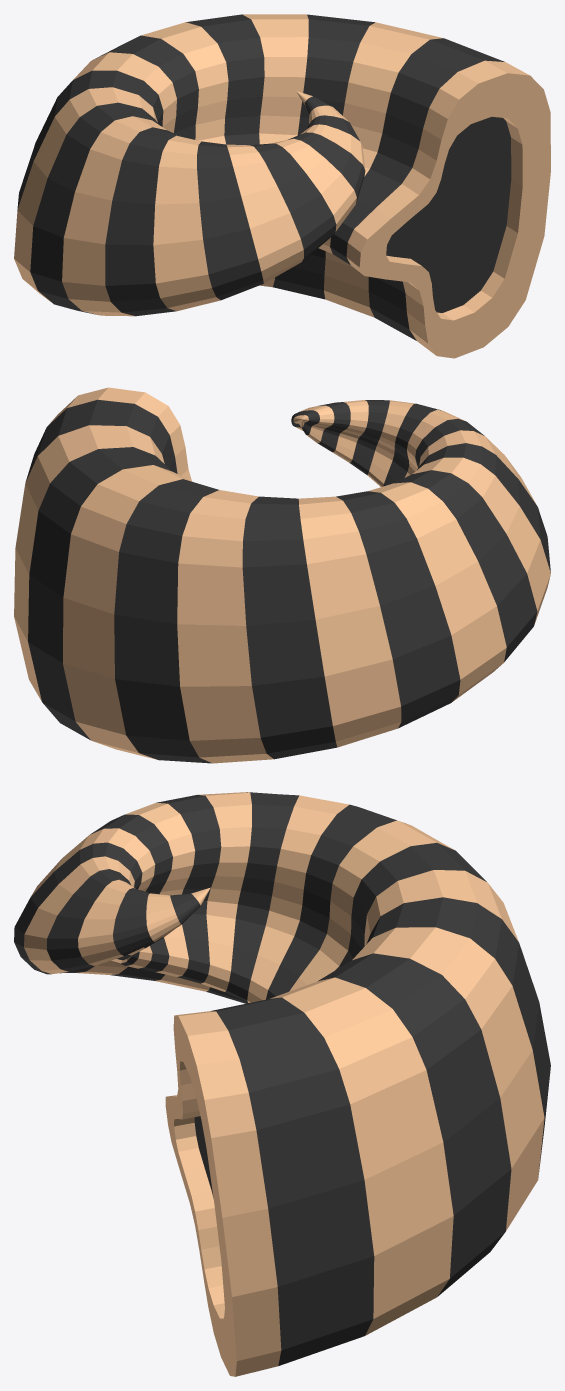
The model's file is Ingredient_horn_2.fbx.
3 views of the same model, one above another, from view 1: azimuth 30°, elevation 25°; view 2: azimuth 150°, elevation 25°; view 3: azimuth 270°, elevation 25° (orthographic). The views are drawn at different scales.
Parts seen in each view (by area): view 1: Horn#2.001; view 2: Horn#2.001; view 3: Horn#2.001.
Part boxes in pixels (x1,y1,x2,y2): Horn#2.001: (14, 14, 550, 358); Horn#2.001: (14, 387, 550, 763); Horn#2.001: (14, 792, 550, 1376).
Bounding box in the file's own units: 36.19 × 21.73 × 28.29.
